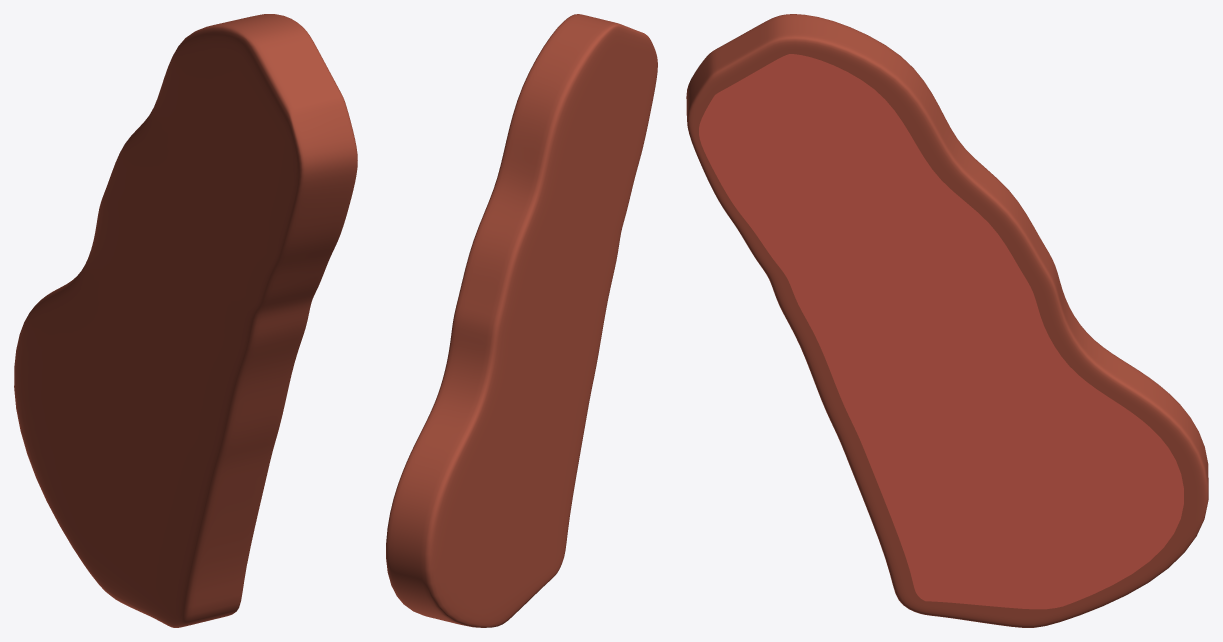
File: beacon_cook.fbx
3 renders of one model, left to right at view 1: azimuth 30°, elevation 25°; view 2: azimuth 150°, elevation 25°; view 3: azimuth 270°, elevation 25°, orthographic. The views are drawn at different scales.
Parts seen in each view (by area): view 1: Cube.009; view 2: Cube.009; view 3: Cube.009.
Boxes of the visible parts, bbox=[...] form: Cube.009: bbox=[14, 14, 357, 627]; Cube.009: bbox=[386, 14, 657, 627]; Cube.009: bbox=[686, 14, 1208, 627].
Bounding box in the file's own units: 13.92 × 150 × 120.
